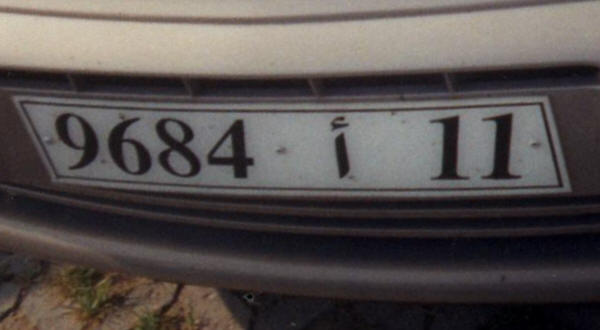number_plate: (9, 91, 581, 205)
